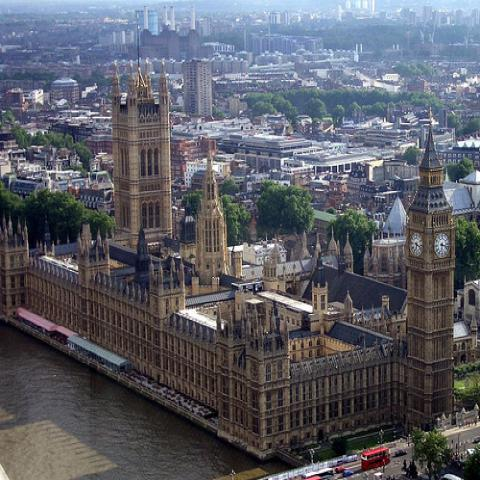bus: (360, 446, 391, 471), (301, 468, 335, 479)
car: (342, 470, 354, 477), (335, 466, 346, 473), (396, 450, 407, 457), (472, 437, 480, 443)
